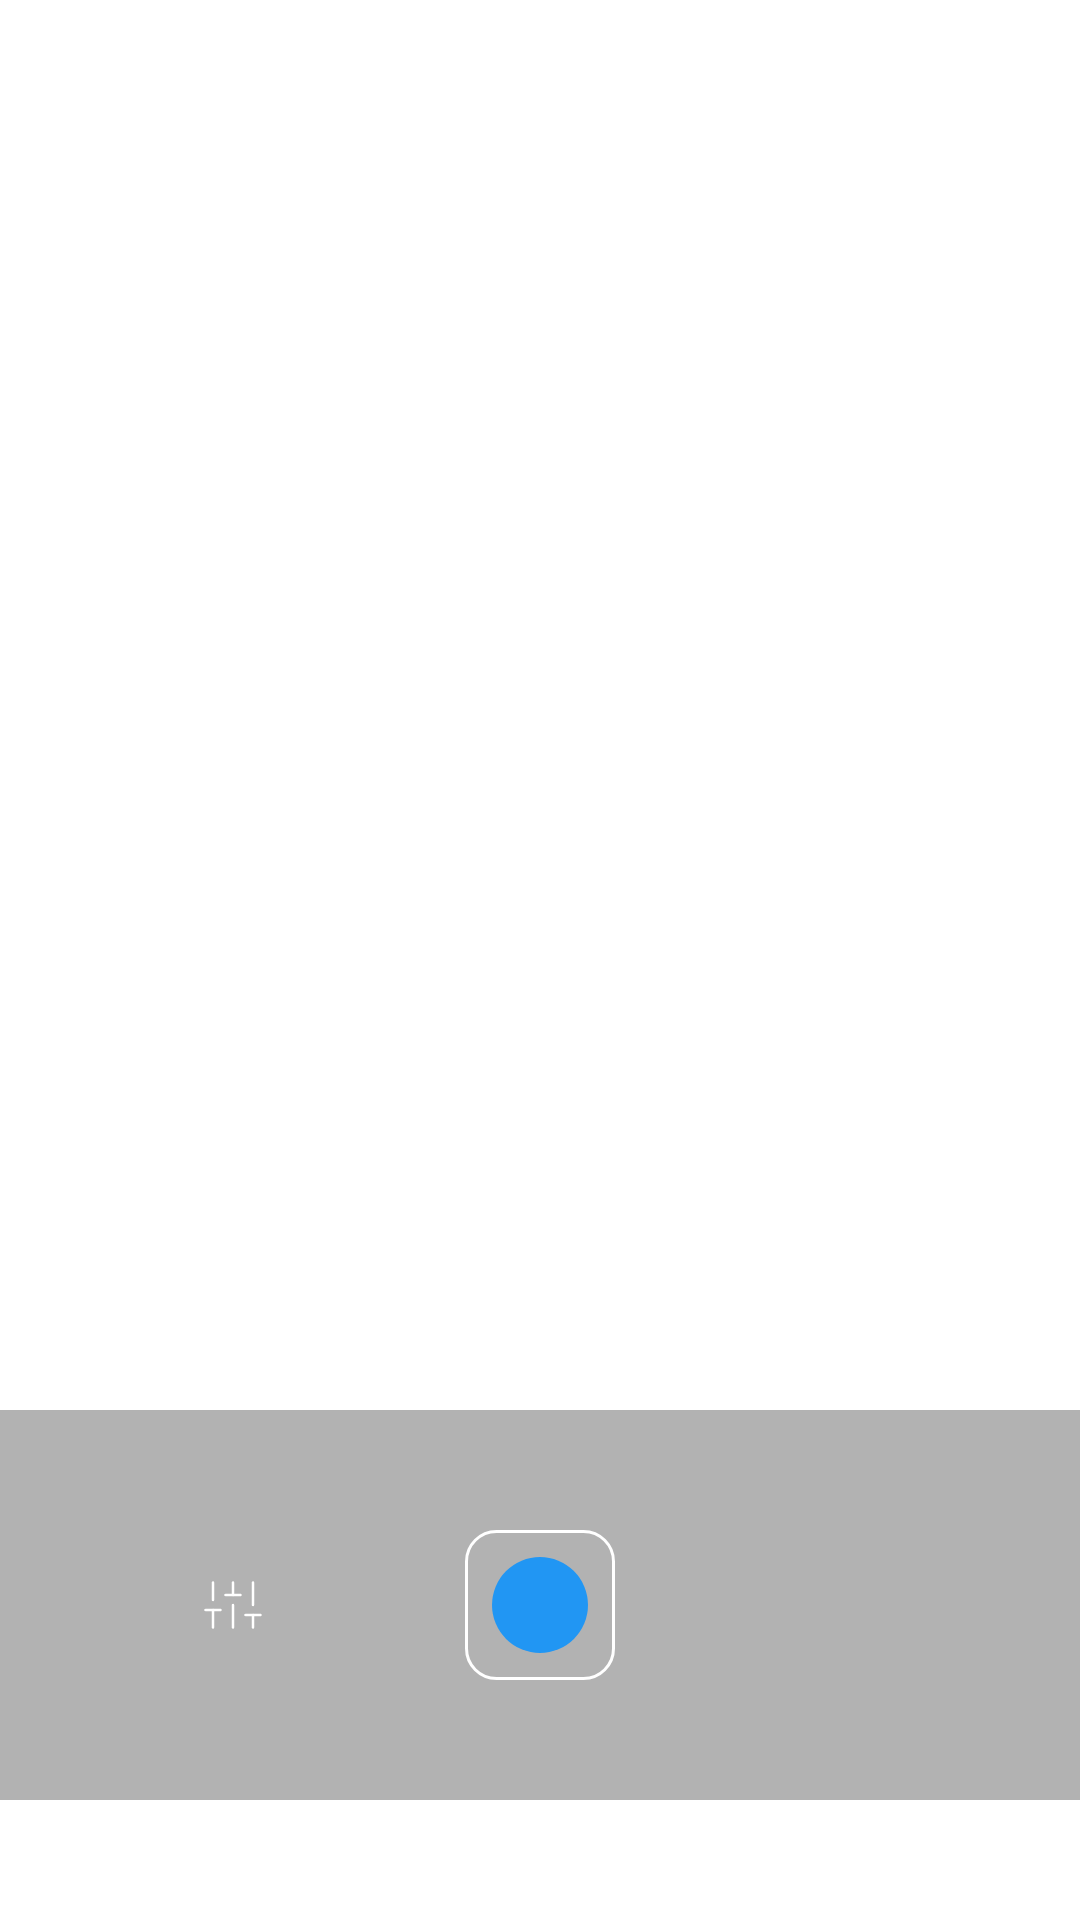

Icon bounding boxes for this 1080px x 1920px phone screenshot, format (x1, y1, x2, y2):
sliders: (204, 1581, 262, 1629)
